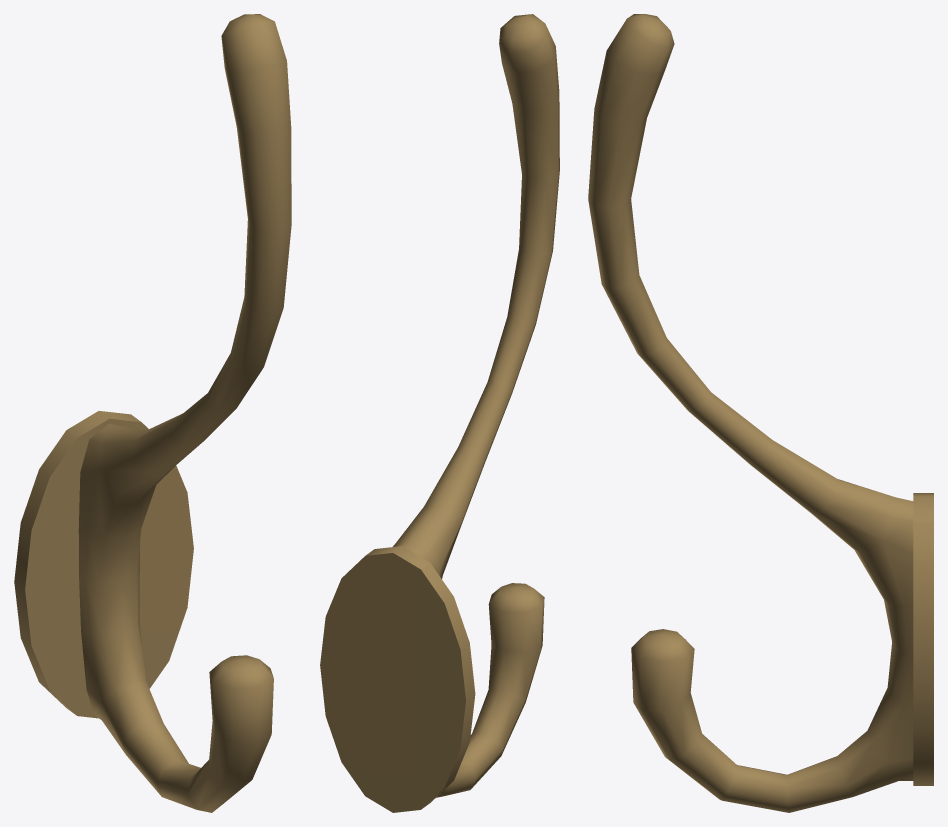
Rendered from coat_hook.glb.
3 views of the same model, side by side, from view 1: azimuth 30°, elevation 25°; view 2: azimuth 150°, elevation 25°; view 3: azimuth 270°, elevation 25° (orthographic). The views are drawn at different scales.
Visible parts, largest first — view 1: coat_hook; view 2: coat_hook; view 3: coat_hook.
Boxes of the visible parts, x1,y1,x2,y2 form: coat_hook: (14,14,291,812); coat_hook: (320,14,559,812); coat_hook: (588,14,933,812).
Size of the model in its own units: 0.0267 by 0.127 by 0.0499.
Materials: 1 (1 with a texture image).
